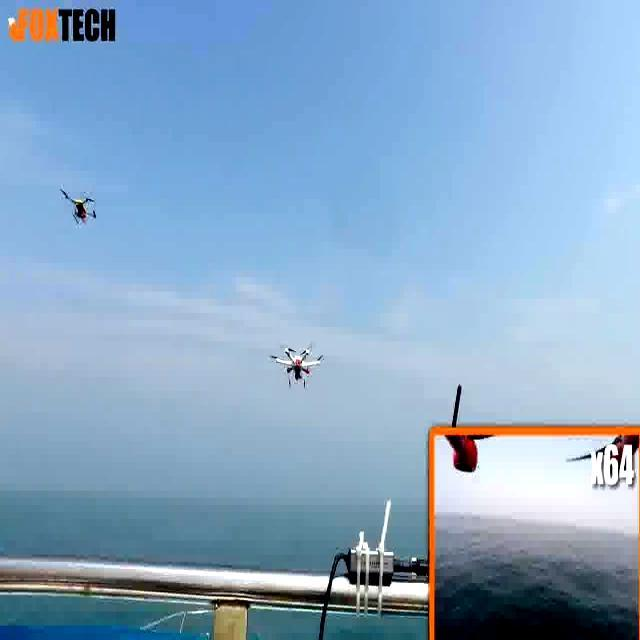drone: (266, 332, 327, 394), (53, 174, 104, 234)
